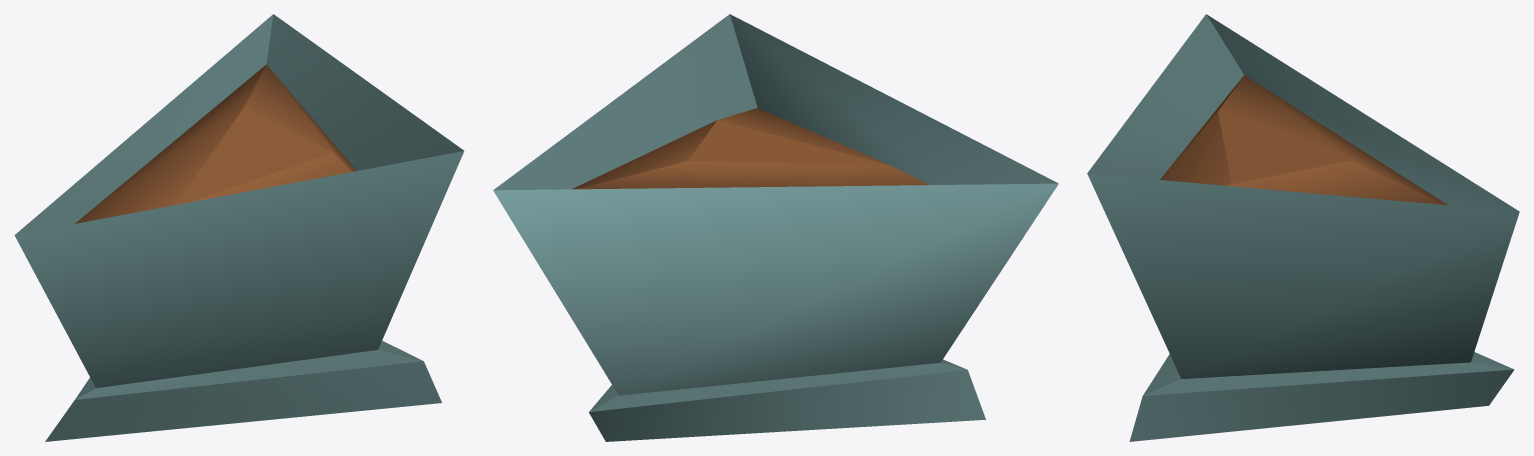
File: c_deco_vase_triangle_aa.fbx
3 views of the same model, side by side, from view 1: azimuth 30°, elevation 25°; view 2: azimuth 150°, elevation 25°; view 3: azimuth 270°, elevation 25° (orthographic).
Visible parts, largest first — view 1: c_deco_vase_triangle_aa; view 2: c_deco_vase_triangle_aa; view 3: c_deco_vase_triangle_aa.
Part boxes in pixels (x1=…): c_deco_vase_triangle_aa: x1=14, y1=14, x2=464, y2=441; c_deco_vase_triangle_aa: x1=493, y1=14, x2=1058, y2=441; c_deco_vase_triangle_aa: x1=1087, y1=14, x2=1519, y2=441.
Bounding box in the file's own units: 0.5824 × 0.3588 × 0.5227.
